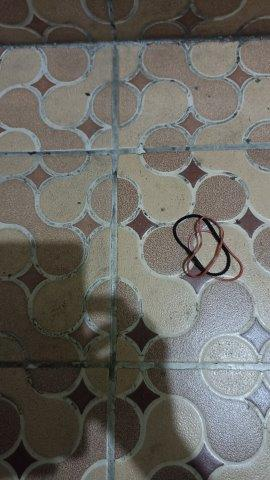karet: (173, 214, 244, 281)
